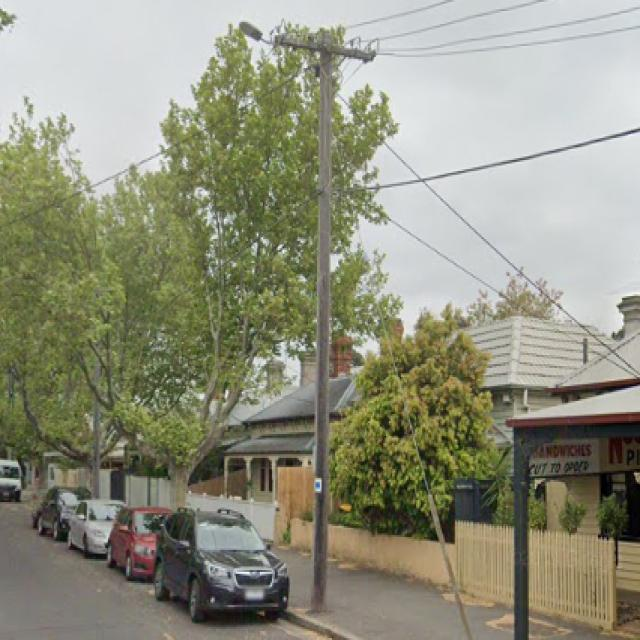crossarm: (271, 34, 377, 62)
streetlight: (238, 21, 275, 47)
timber-pole: (310, 41, 332, 613)
